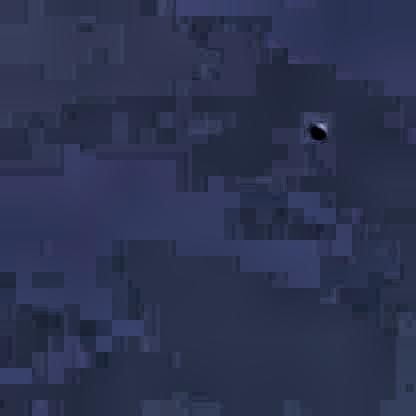golfball: (306, 117, 322, 135)
